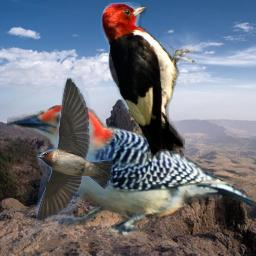Swallow: (36, 77, 113, 222)
Woodpecker: (7, 105, 253, 239), (100, 2, 197, 162)
